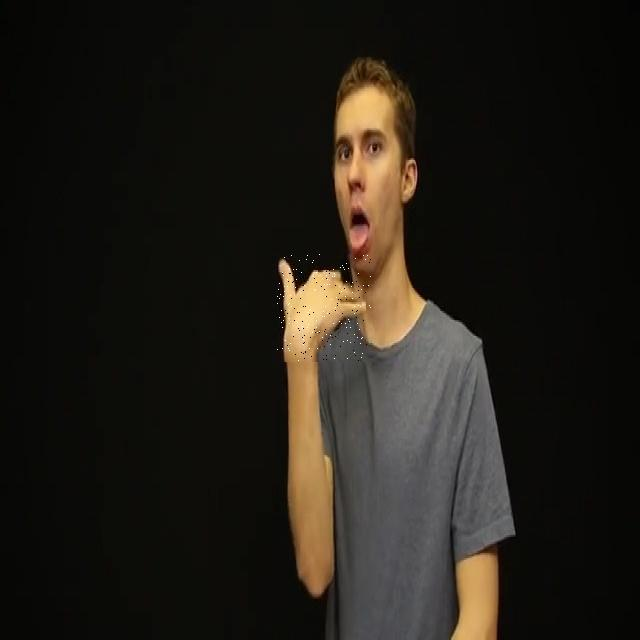spicy: (278, 254, 372, 362)
